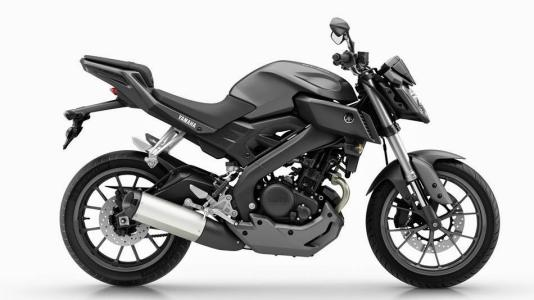motor: (56, 38, 497, 292)
